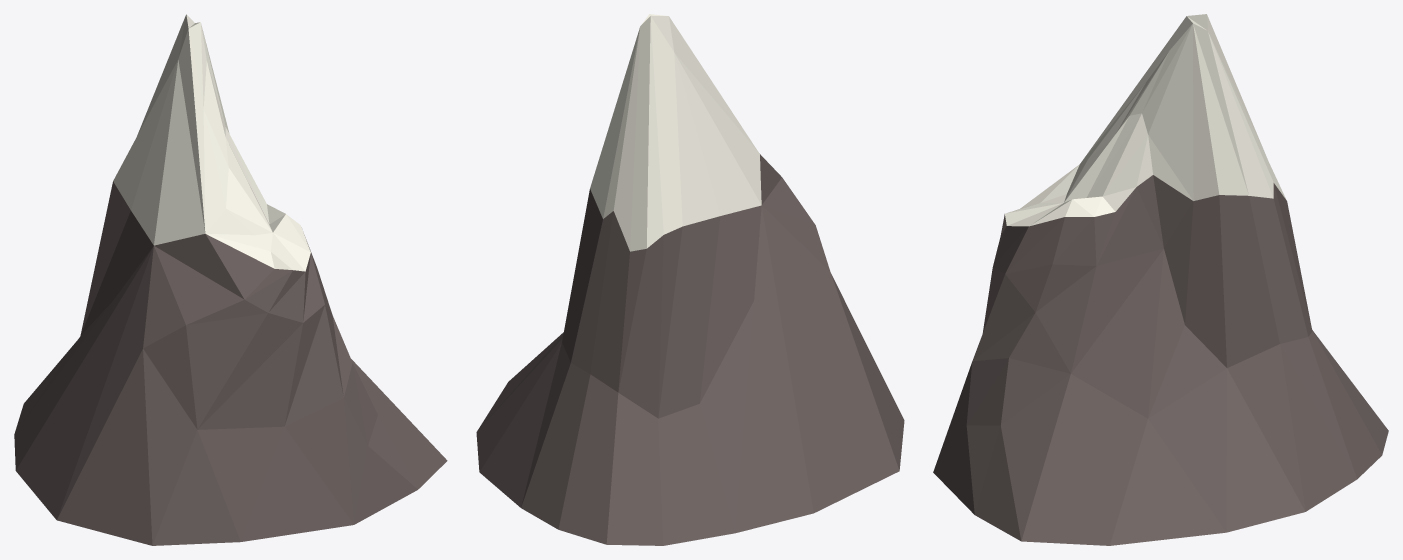
Rendered from Mountain02.FBX.
3 renders of one model, left to right at view 1: azimuth 30°, elevation 25°; view 2: azimuth 150°, elevation 25°; view 3: azimuth 270°, elevation 25°, orthographic. The views are drawn at different scales.
Visible parts, largest first — view 1: Mountain02; view 2: Mountain02; view 3: Mountain02.
Part boxes in pixels (<box>): Mountain02: <box>14,14,447,545</box>; Mountain02: <box>476,14,904,545</box>; Mountain02: <box>933,14,1388,545</box>.
Size of the model in its own units: 549 by 612 by 575.
1 material, 1 textured.
